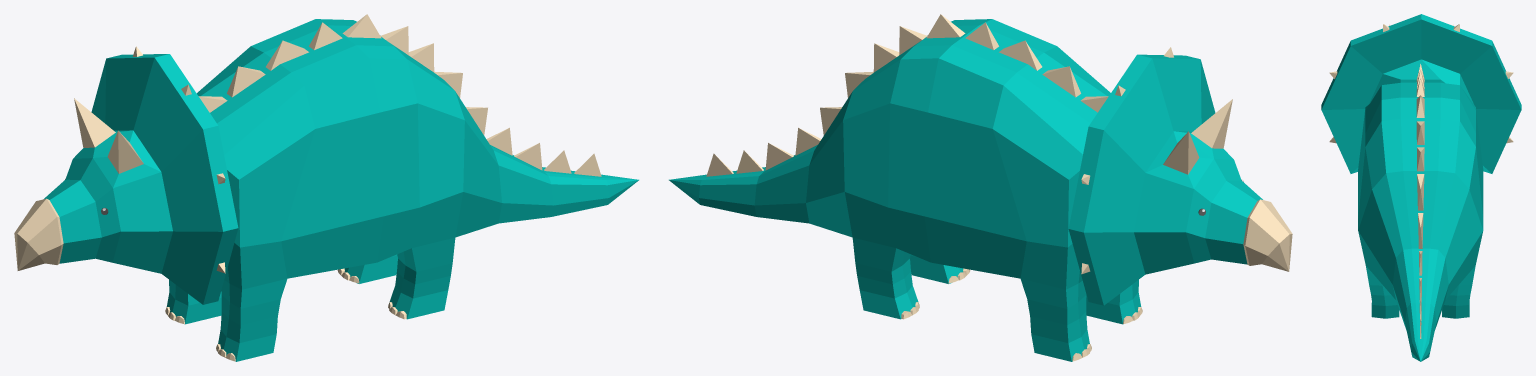
The model's file is Dinosaur.gltf.
The picture shows the model from 3 angles, left to right: view 1: azimuth 30°, elevation 25°; view 2: azimuth 150°, elevation 25°; view 3: azimuth 270°, elevation 25°; orthographic projection. The views are drawn at different scales.
Parts seen in each view (by area): view 1: Cube.039; view 2: Cube.039; view 3: Cube.039.
Boxes of the visible parts, x1,y1,x2,y2 form: Cube.039: [14, 14, 638, 361]; Cube.039: [669, 14, 1292, 361]; Cube.039: [1321, 14, 1521, 361].
Size of the model in its own units: 424 by 189 by 162.
